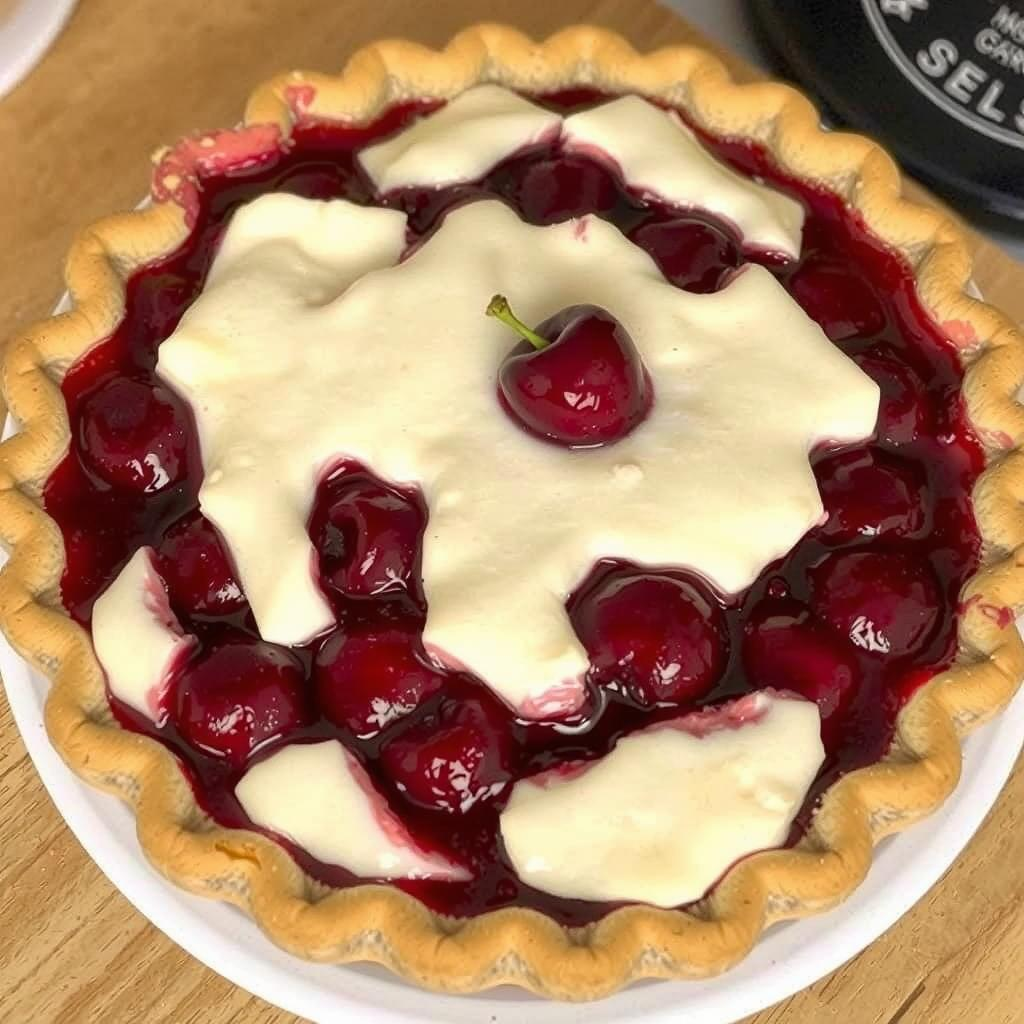pie: (0, 24, 1024, 1006)
